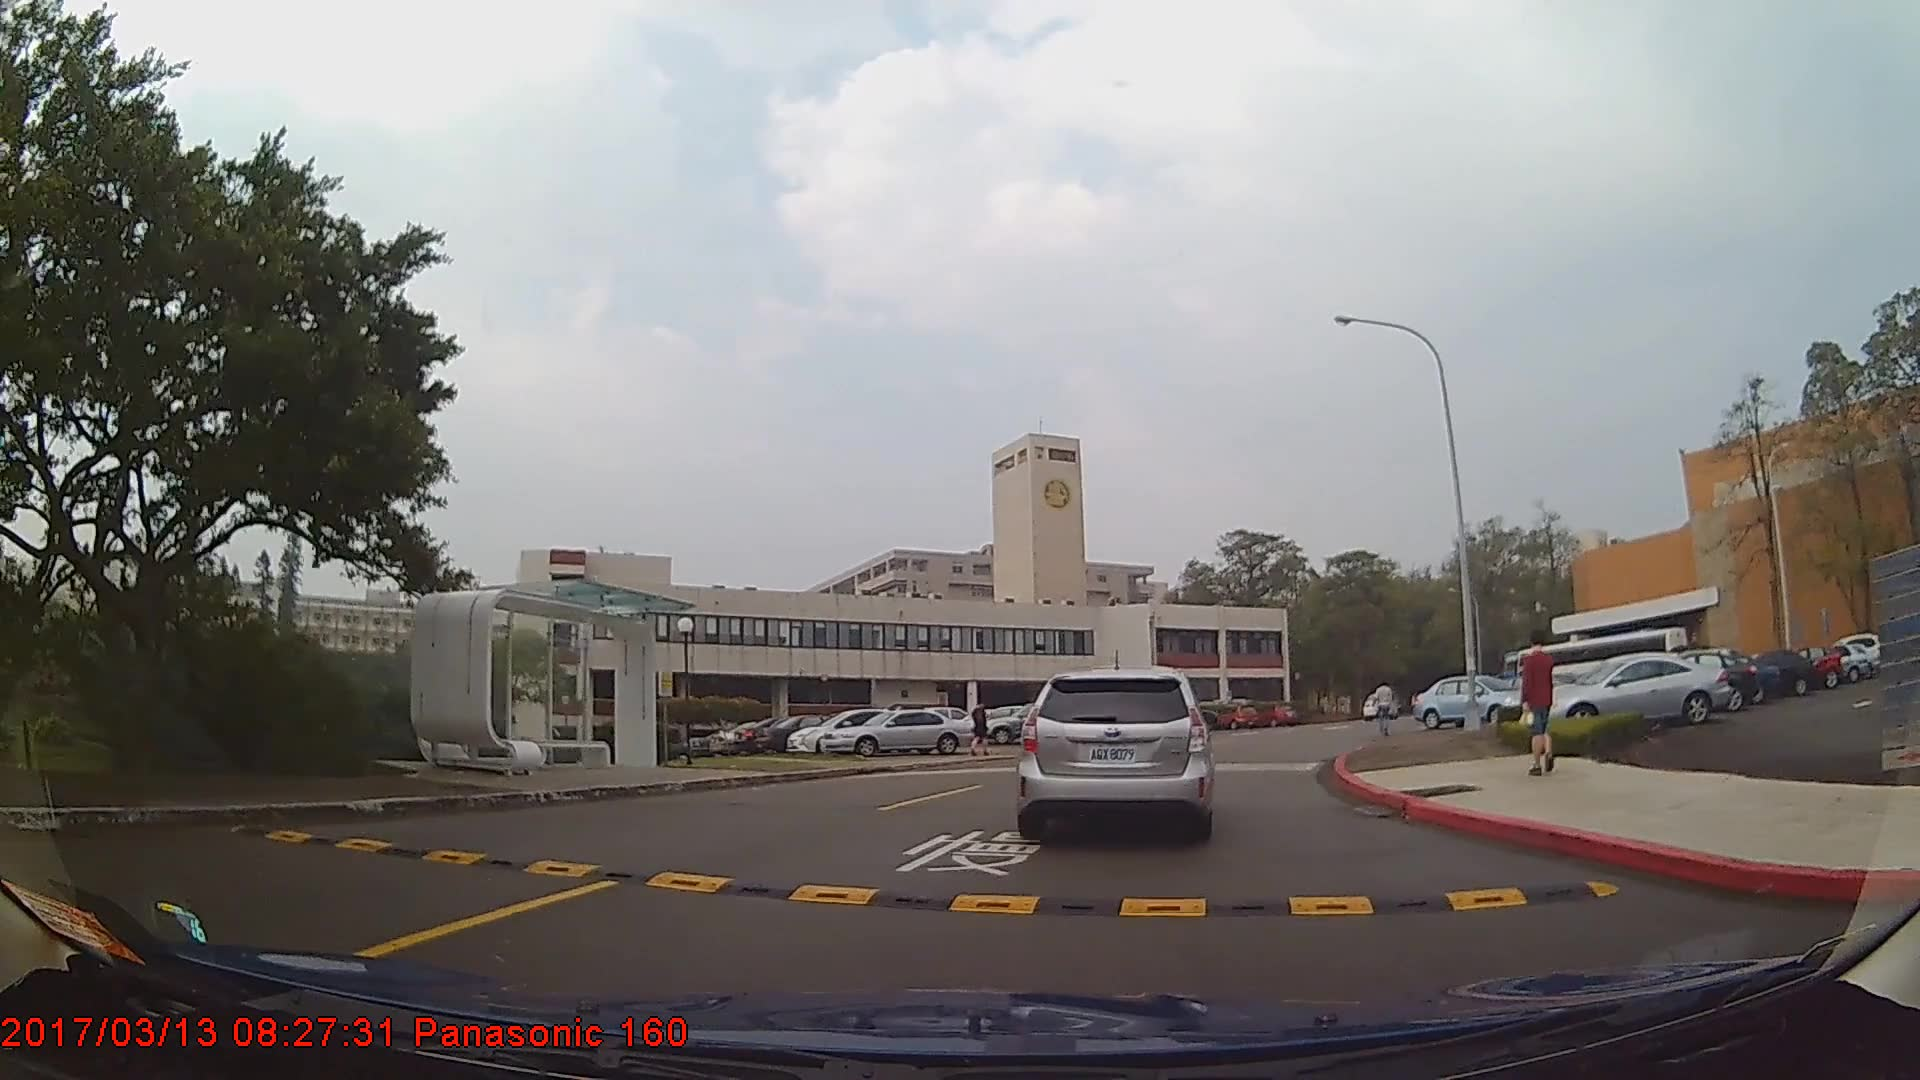pedestrian: (1514, 625, 1560, 772), (1372, 675, 1396, 738), (971, 699, 991, 756)
vehicle: (1022, 666, 1212, 840), (1538, 650, 1727, 726), (819, 706, 974, 756), (779, 703, 921, 750), (1408, 674, 1527, 726), (1672, 650, 1781, 702), (1713, 645, 1816, 696), (754, 711, 856, 751)
